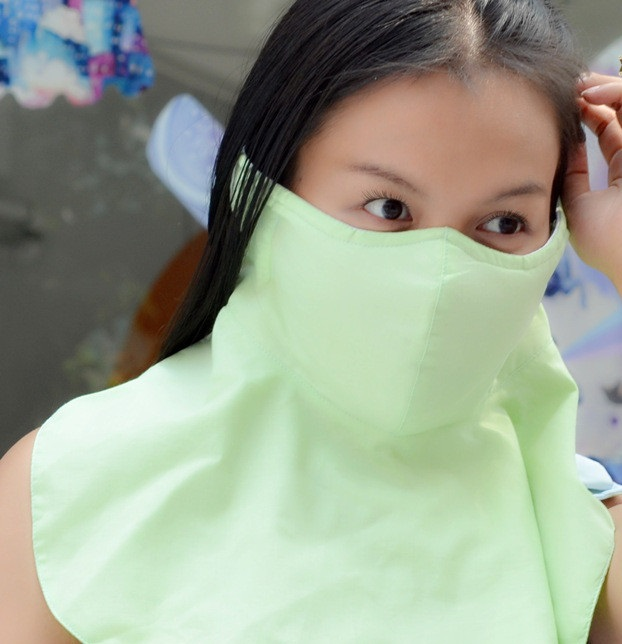face_mask: (287, 80, 559, 427)
